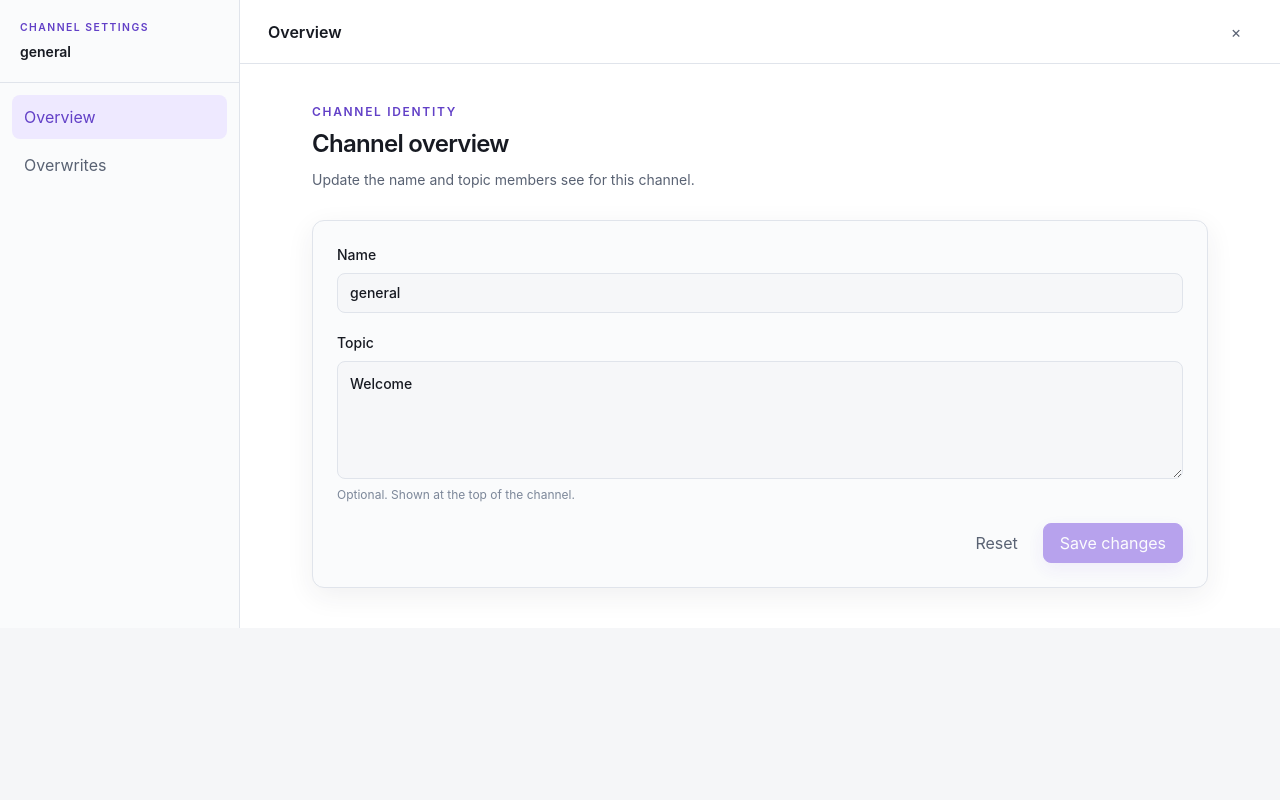
Test: ChannelSettingsPage › saves only patched overview fields
Replace the text in the field showing "general" with "lobby" at x=760, y=293, box [337,273,1183,313]
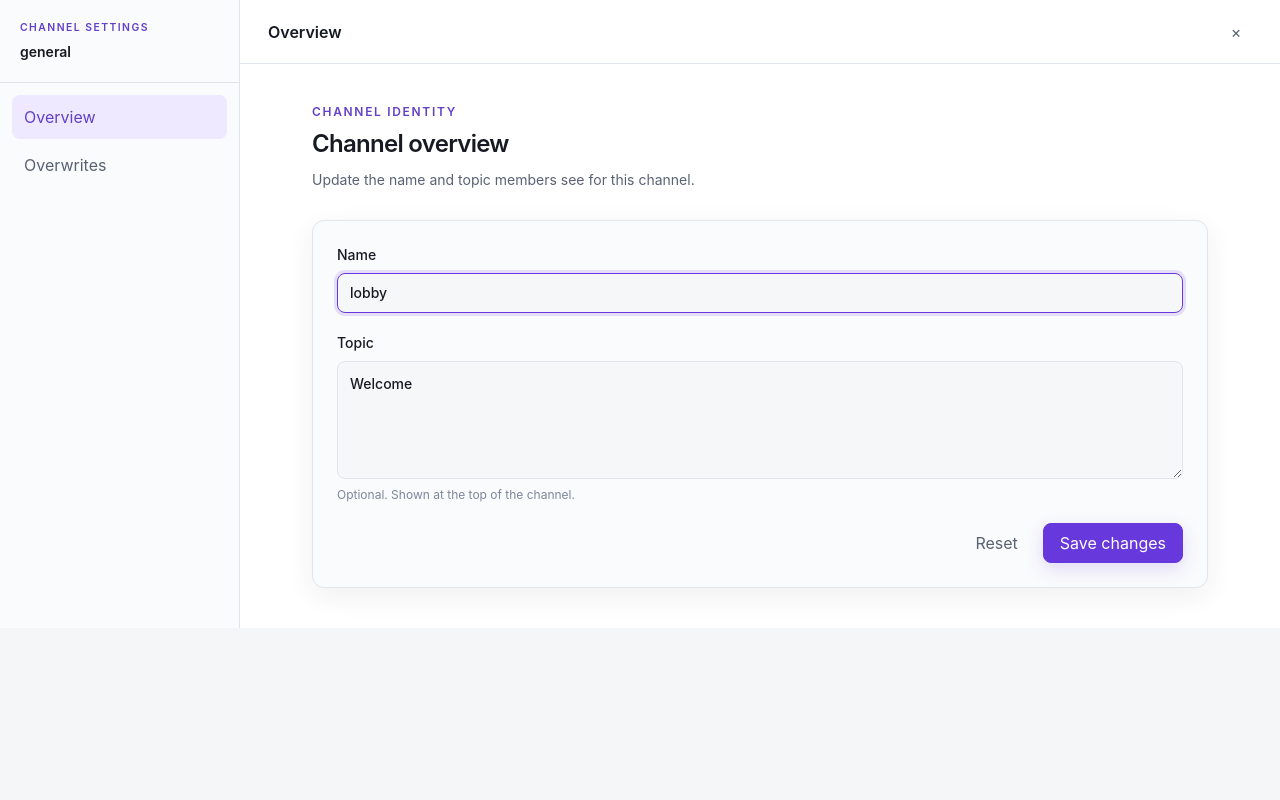
Click the button "Save changes" at x=1113, y=543, box [1043,523,1183,563]
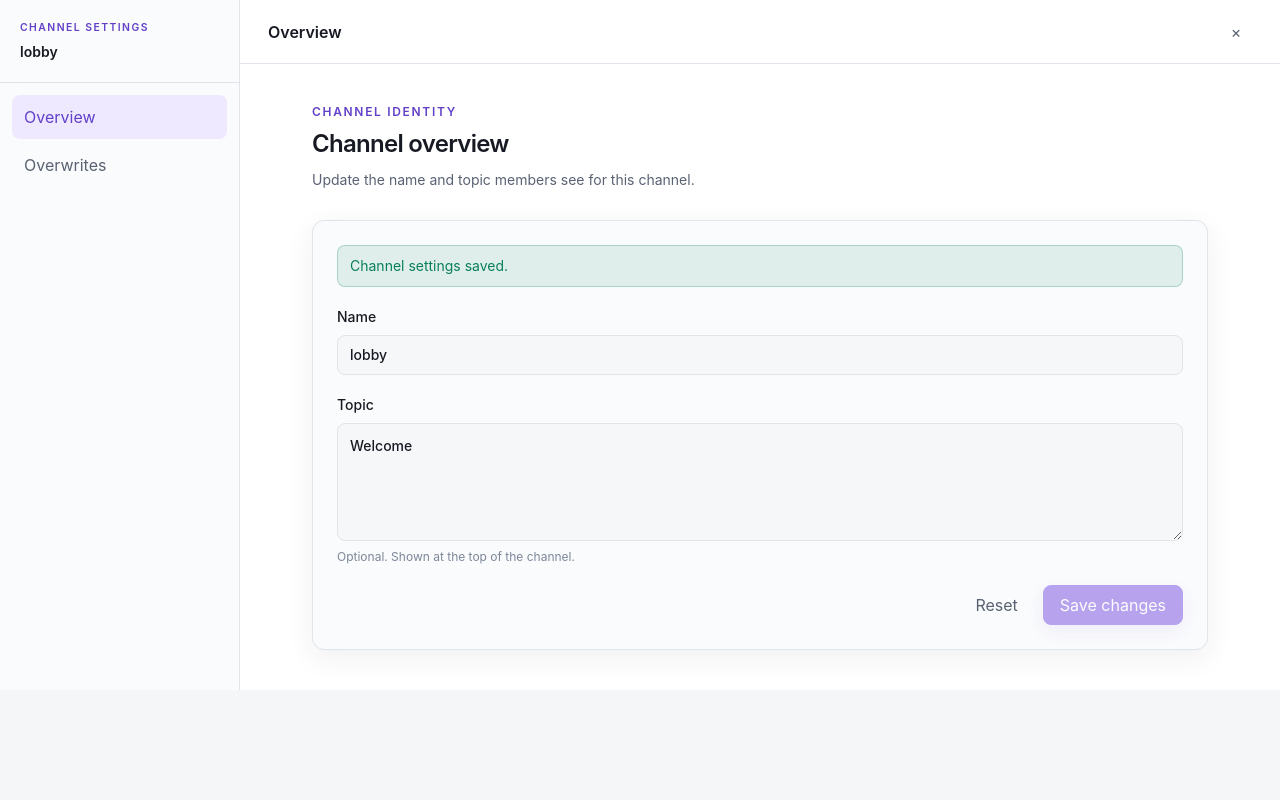
Check: the message reads "Channel settings saved.", box [350,257,508,274]
